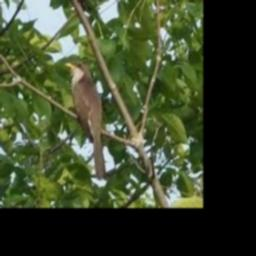Cuckoo: (64, 61, 107, 179)
